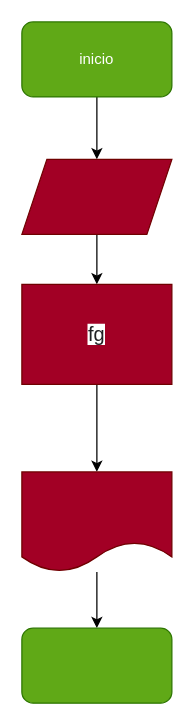
This 194x725 diagram has some shape labels left out. The centre of each missing label's shape, as x and y in pixels:
"fin" goes at point 96,665.
"N=" goes at point 96,196.
